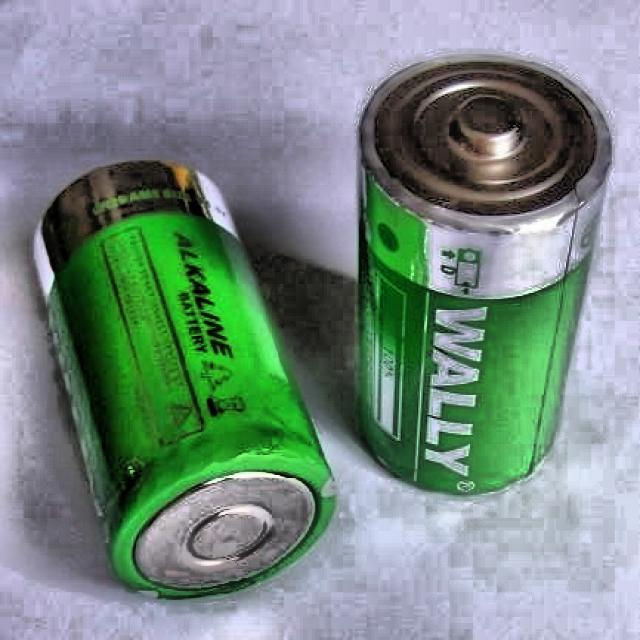Non-Valuable Waste - Batteries: (35, 162, 334, 597), (360, 56, 611, 494)
